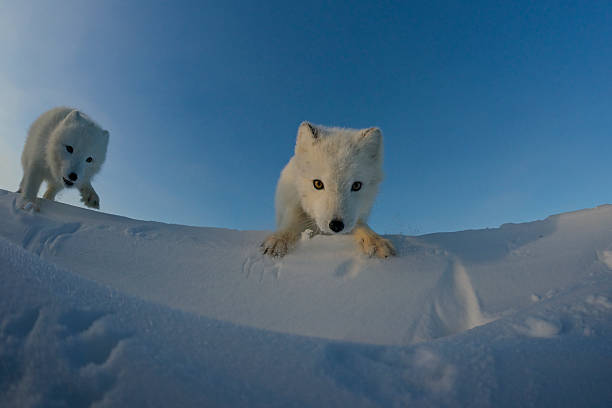arcticfox: (296, 151, 372, 242), (49, 122, 98, 201)
